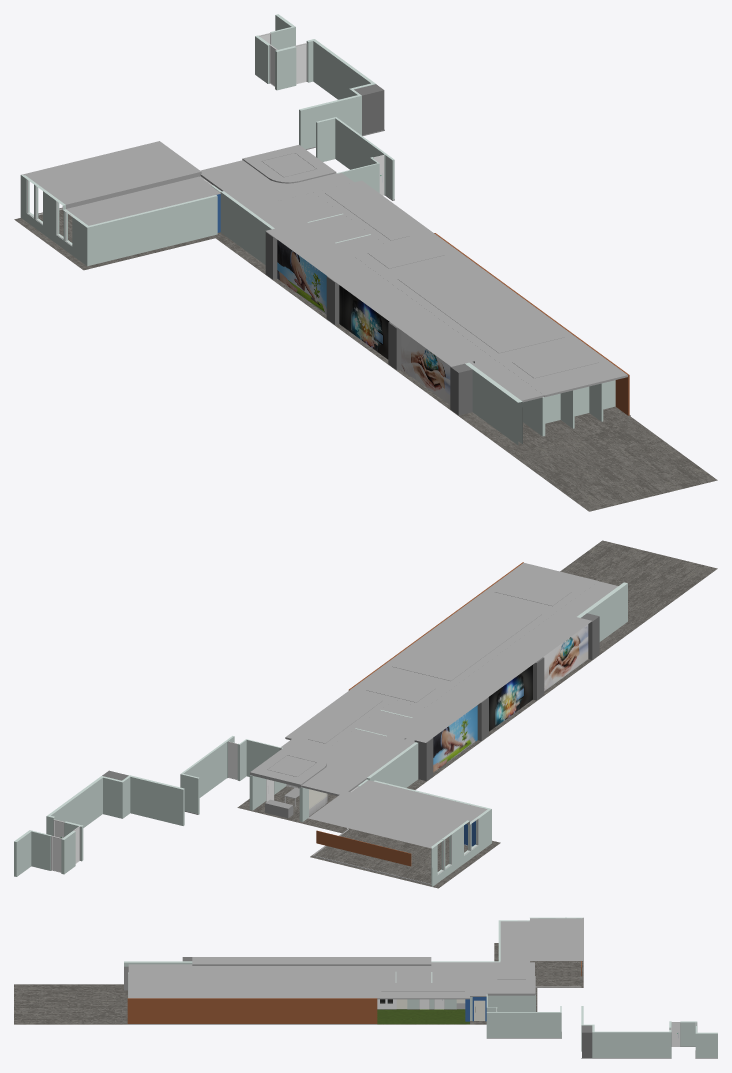
The model's file is lobby.fbx.
3 views of the same model, one above another, from view 1: azimuth 30°, elevation 25°; view 2: azimuth 150°, elevation 25°; view 3: azimuth 270°, elevation 25° (orthographic). The views are drawn at different scales.
Visible parts, largest first — view 1: floor1, front_ceiling_8, front_ceiling_5, front_ceiling_4, croom_1, front_ceiling_12, front_ceiling_11, wall_part_81, front_ceiling_6, wall_part_85, front_ceiling_7, wall_part_52 (+11 smaller); view 2: floor1, front_ceiling_8, front_ceiling_4, front_ceiling_5, wall_part_81, front_ceiling_12, front_ceiling_11, wall_part_85, front_ceiling_6, croom_1, front_ceiling_7, ceiling_border (+12 smaller); view 3: m_cabin_119, floor1, front_ceiling_8, front_ceiling_4, front_ceiling_5, wall_part_81, front_ceiling_12, wall_part_85, front_ceiling_11, front_ceiling_6, green_matte, front_ceiling_7 (+10 smaller).
Boxes of the visible parts, box(x1,y1,x2,y2) form: floor1: box(14, 207, 717, 511); front_ceiling_8: box(378, 253, 577, 359); front_ceiling_5: box(21, 141, 220, 225); front_ceiling_4: box(200, 160, 543, 402); croom_1: box(20, 175, 217, 266); front_ceiling_12: box(266, 225, 474, 366); front_ceiling_11: box(495, 339, 627, 397); wall_part_81: box(299, 39, 375, 149); front_ceiling_6: box(314, 180, 434, 245); wall_part_85: box(316, 117, 394, 199); front_ceiling_7: box(279, 192, 385, 254); wall_part_52: box(465, 362, 522, 444); floor1: box(237, 540, 717, 888); front_ceiling_8: box(375, 595, 554, 690); front_ceiling_4: box(279, 581, 618, 795); front_ceiling_5: box(308, 780, 487, 848); wall_part_81: box(46, 775, 184, 835); front_ceiling_12: box(404, 616, 591, 742); front_ceiling_11: box(480, 563, 598, 613); wall_part_85: box(180, 736, 282, 814); front_ceiling_6: box(285, 689, 393, 747); croom_1: box(374, 780, 491, 886); front_ceiling_7: box(329, 700, 425, 755); ceiling_border: box(250, 748, 326, 787); m_cabin_119: box(127, 998, 377, 1023); floor1: box(14, 943, 583, 1024); front_ceiling_8: box(191, 972, 341, 998); front_ceiling_4: box(128, 962, 534, 996); front_ceiling_5: box(500, 917, 583, 962); wall_part_81: box(581, 1006, 671, 1057); front_ceiling_12: box(192, 957, 431, 965); wall_part_85: box(486, 994, 561, 1037); front_ceiling_11: box(128, 972, 191, 998); front_ceiling_6: box(376, 983, 469, 999); green_matte: box(377, 1009, 469, 1024); front_ceiling_7: box(376, 972, 469, 982).
Bounding box in the file's own units: 2750 × 308 × 7070.
Materials: 27 (6 with a texture image).
